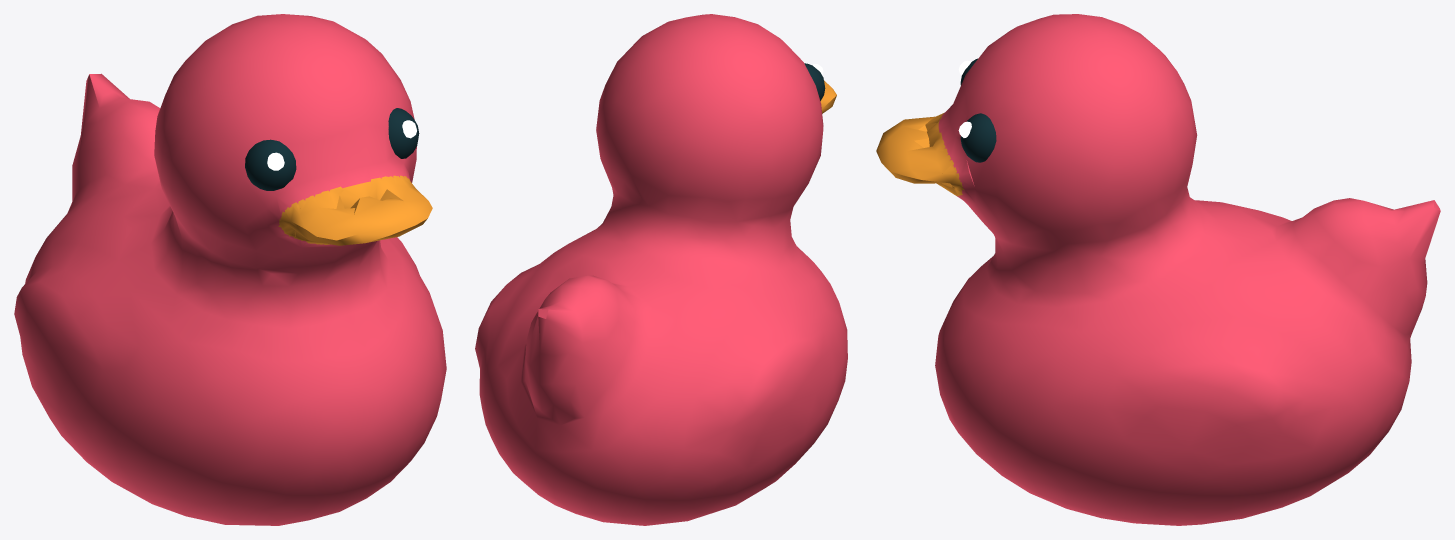
Rendered from duck-low.glb.
3 renders of one model, left to right at view 1: azimuth 30°, elevation 25°; view 2: azimuth 150°, elevation 25°; view 3: azimuth 270°, elevation 25°, orthographic. The views are drawn at different scales.
Visible parts, largest first — view 1: duck-low; view 2: duck-low; view 3: duck-low.
Part boxes in pixels (<box>): duck-low: <box>14,14,446,525</box>; duck-low: <box>475,14,847,525</box>; duck-low: <box>876,14,1440,525</box>.
Size of the model in its own units: 0.6388 by 0.8945 by 0.9554.
